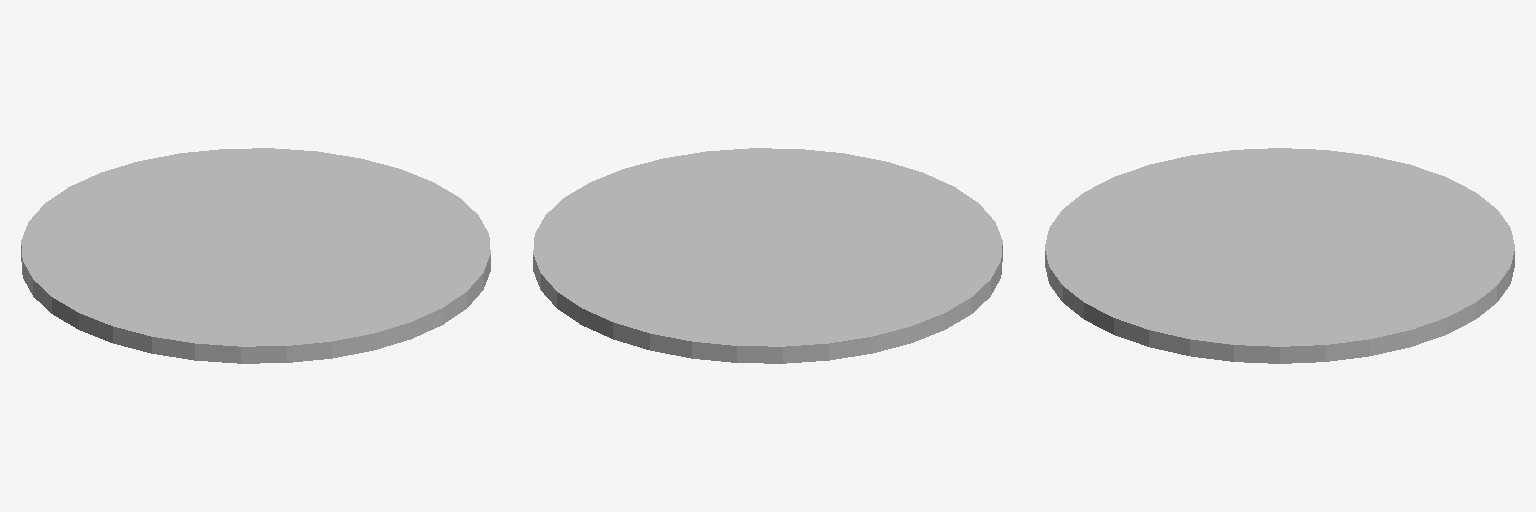
The model's file is floor_circle.obj.
The picture shows the model from 3 angles: view 1: azimuth 30°, elevation 25°; view 2: azimuth 150°, elevation 25°; view 3: azimuth 270°, elevation 25°; orthographic projection.
Visible parts, largest first — view 1: 円柱; view 2: 円柱; view 3: 円柱.
Part boxes in pixels (x1,y1,x2,y2): 円柱: (21, 148, 490, 363); 円柱: (533, 148, 1002, 363); 円柱: (1045, 148, 1514, 363).
Size of the model in its own units: 50 by 2 by 50.